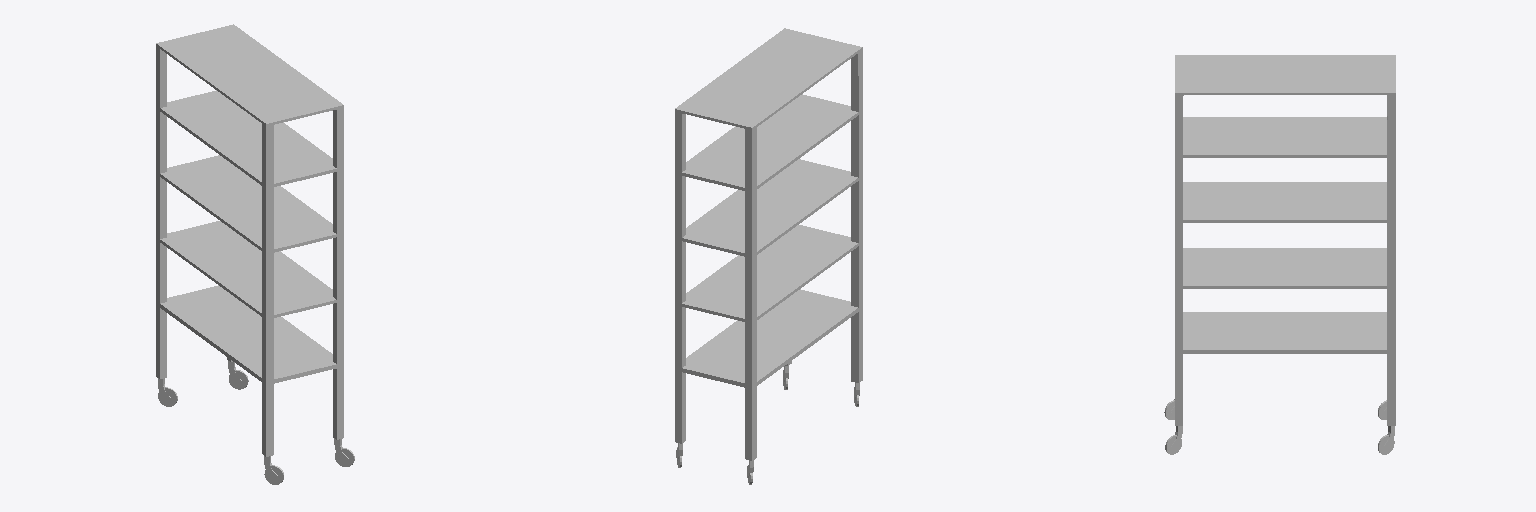
Rendered from metal_shelf.obj.
3 renders of one model, left to right at view 1: azimuth 30°, elevation 25°; view 2: azimuth 150°, elevation 25°; view 3: azimuth 270°, elevation 25°, orthographic.
Parts seen in each view (by area): view 1: Object021; view 2: Object021; view 3: Object021.
Boxes of the visible parts, x1=… form: Object021: x1=156, y1=24, x2=354, y2=484; Object021: x1=675, y1=28, x2=862, y2=484; Object021: x1=1164, y1=55, x2=1395, y2=454.
Size of the model in its own units: 52.41 by 214 by 124.